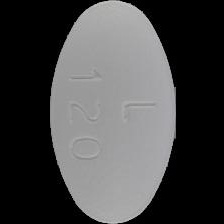63402-312: (0, 0, 224, 224)
